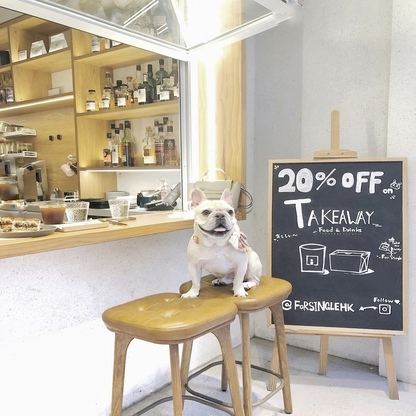bulldog: (179, 188, 264, 300)
